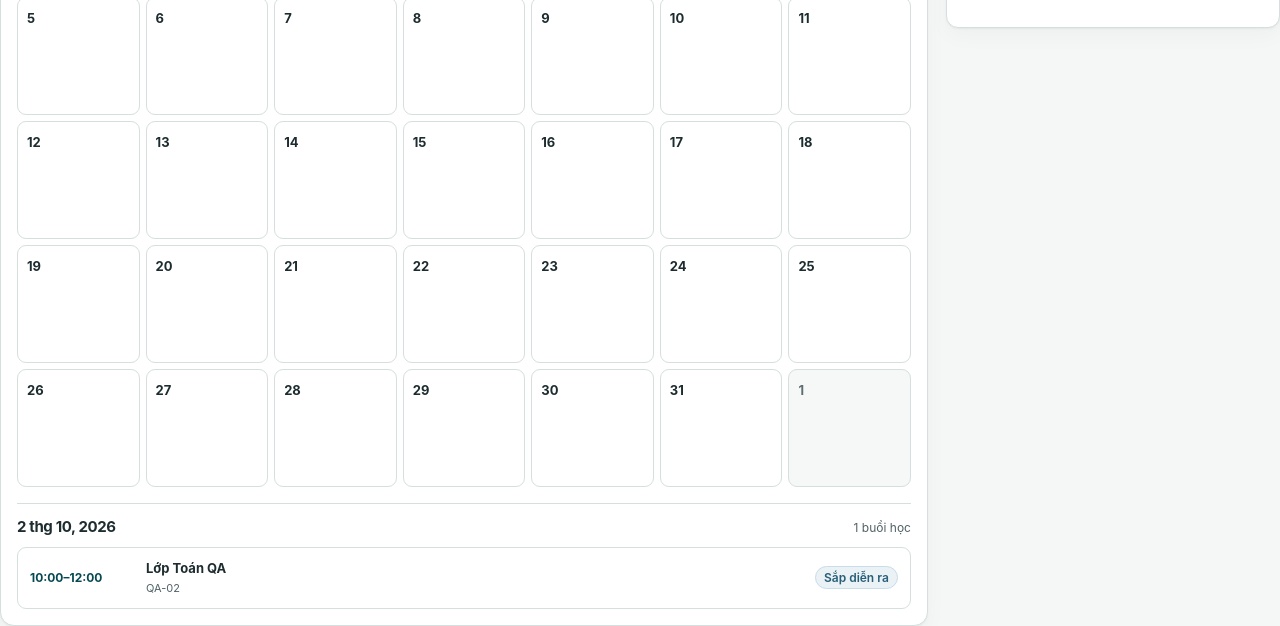
Scenario: Staff SessionsPage › shows a sign-in message and keeps attendance closed when starting fails
The width and height of the screenshot is (1280, 626).
(page scrolled)
Click the button with class "session-month__session-card": [66, 578] box [17,547,911,609]
(page scrolled)
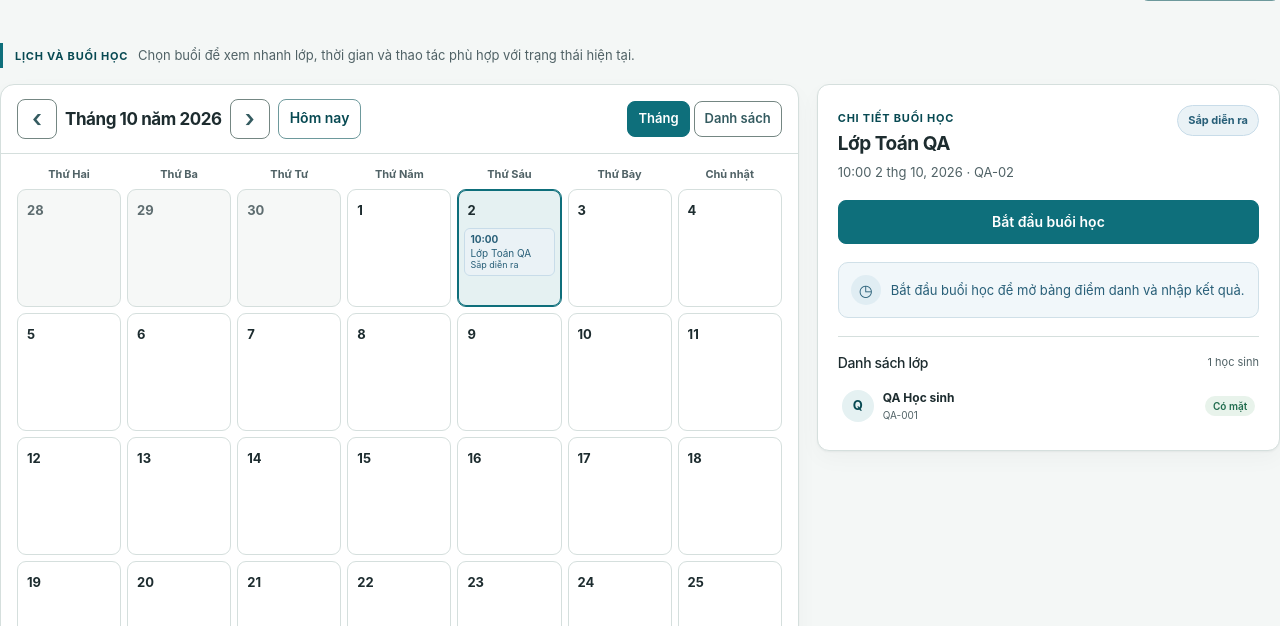
Click the button "Bắt đầu buổi học": [1048, 222] box [838,200,1259,244]
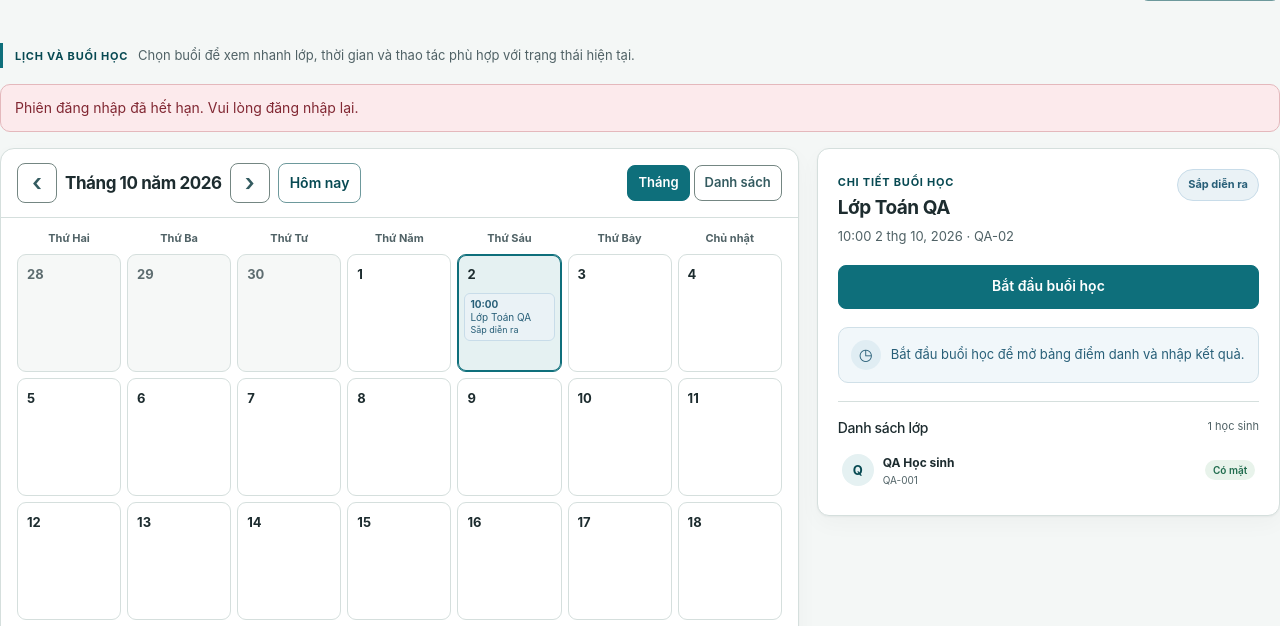
Check: the text with class "teacher-session-status" reads "Sắp diễn ra", box [1188,177,1248,191]
Check: the message "Phiên đăng nhập đã hết hạn. Vui lòng đăng nhập lại." is shown, box [0,84,1279,132]
